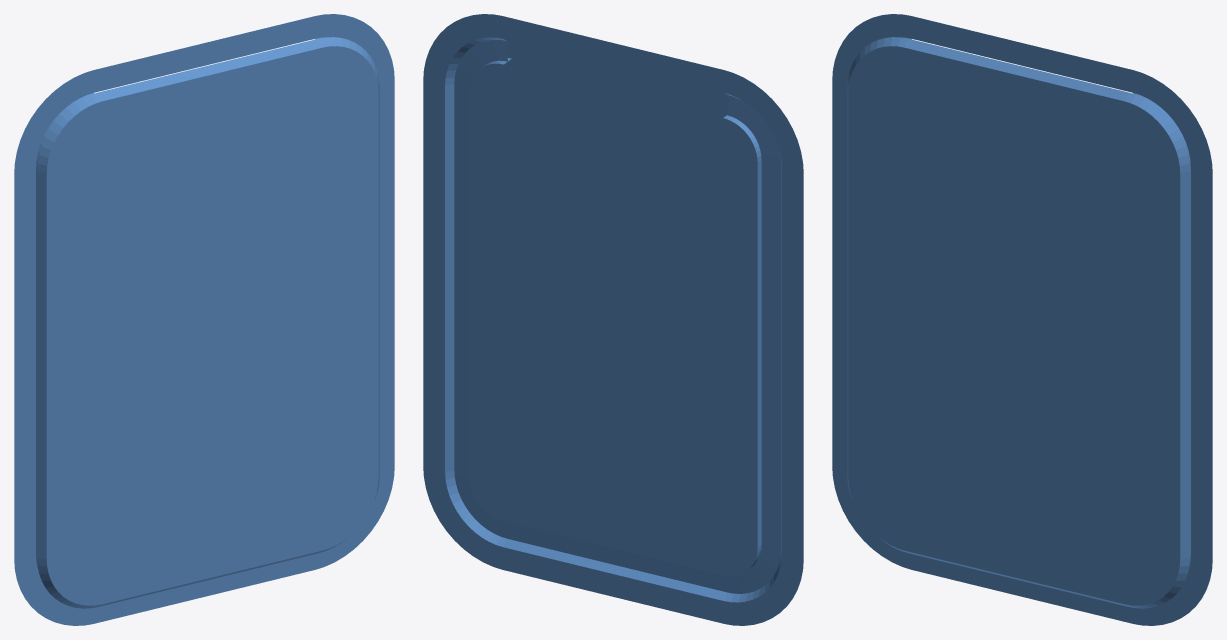
File: laundry_bottom.dae
The picture shows the model from 3 angles, left to right: view 1: azimuth 30°, elevation 25°; view 2: azimuth 150°, elevation 25°; view 3: azimuth 330°, elevation 25°; orthographic projection.
Visible parts, largest first — view 1: skpF7B0 (×3); view 2: skpF7B0 (×3); view 3: skpF7B0 (×3).
Part boxes in pixels (bbox=[...]): skpF7B0 (×3): bbox=[14, 14, 394, 625]; skpF7B0 (×3): bbox=[423, 14, 803, 625]; skpF7B0 (×3): bbox=[832, 14, 1212, 625].
Size of the model in its own units: 13.73 by 19.1 by 0.5102.
